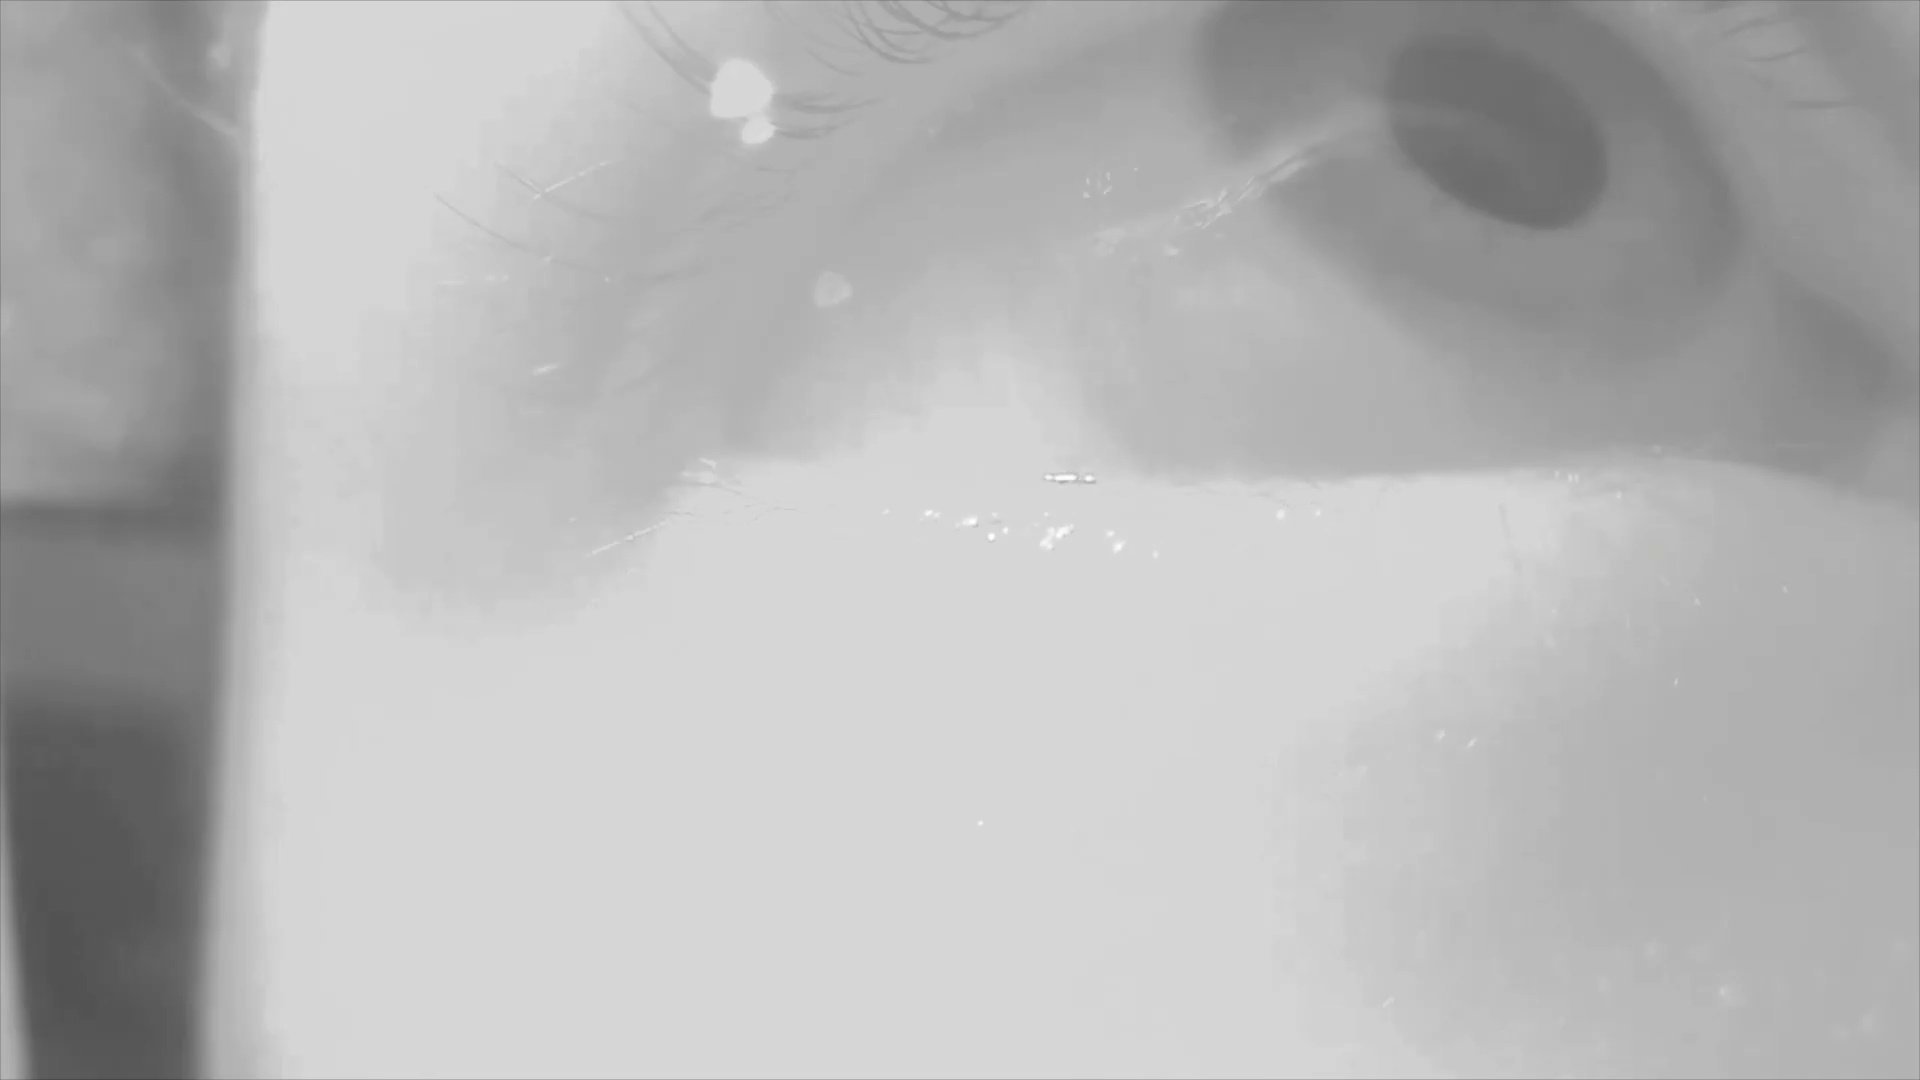pupil: (1389, 33, 1613, 236)
